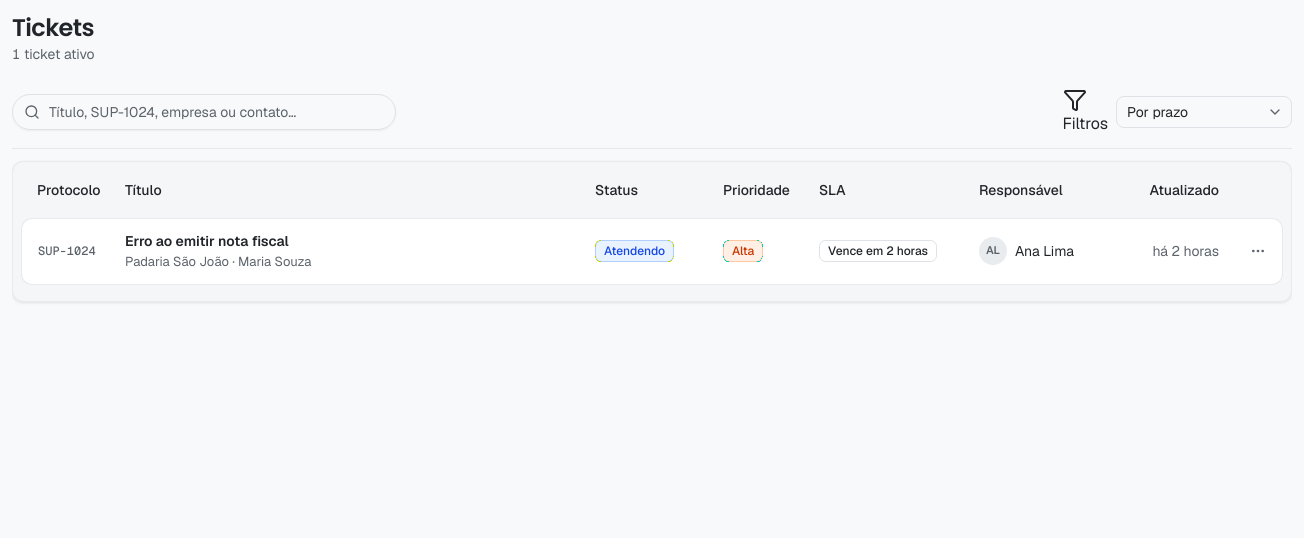
it: TicketsTable — menu ⋯ › 'Mover para' oferece só os destinos da matriz, com os rótulos do catálogo
Click the button named "Ações de SUP-1024": click(1258, 251) [1242,235,1274,267]
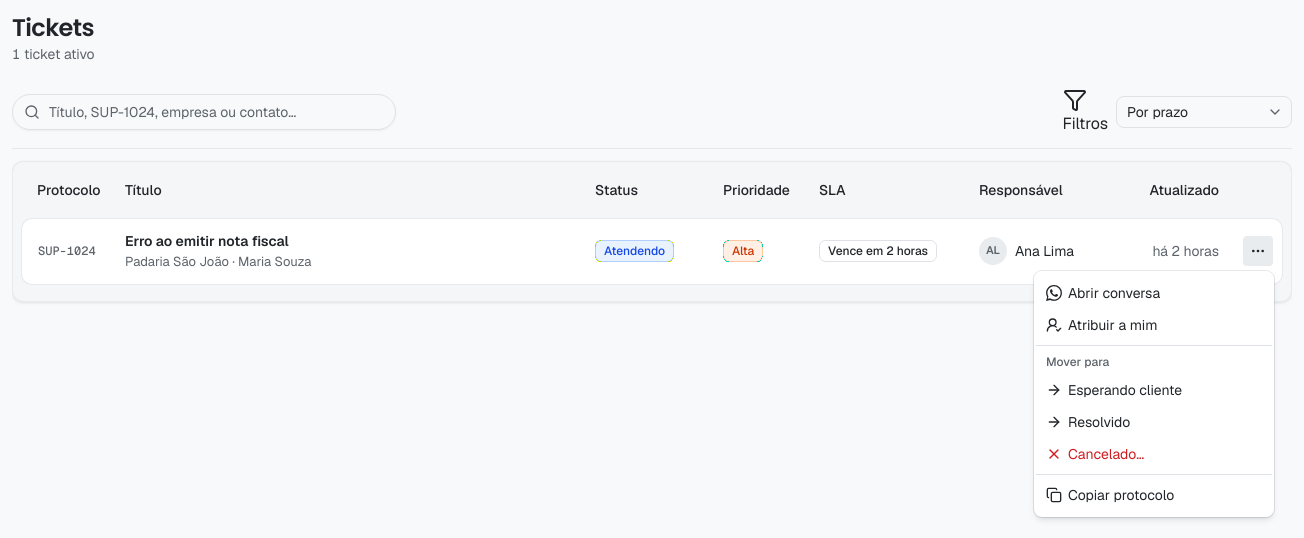
Check: the text "Mover para" is shown, box [1046,354,1109,370]
Check: the menu items read "Abrir conversa", "Atribuir a mim", "Esperando cliente", "Resolvido", "Cancelado…", "Copiar protocolo", in this order, box [1046,284,1160,302]; [1046,316,1158,334]; [1046,381,1182,399]; [1046,413,1130,431]; [1046,445,1144,463]; [1046,486,1174,504]
